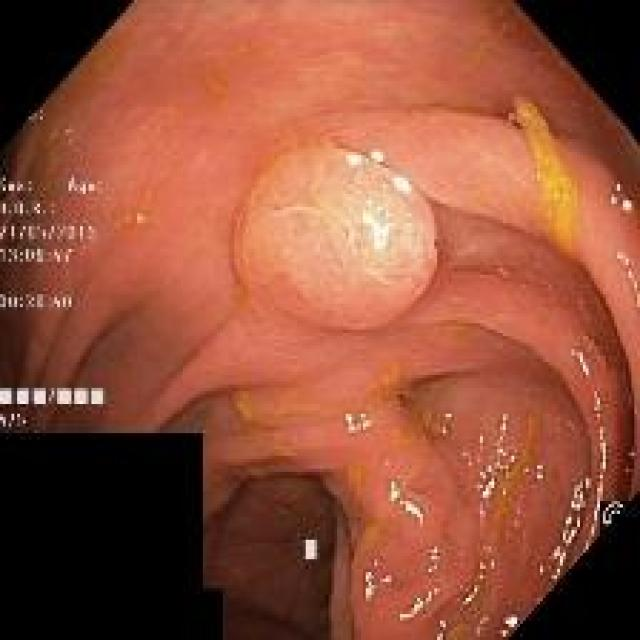Polyps: (234, 141, 438, 331)
